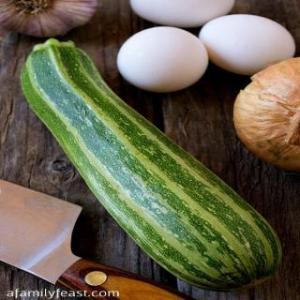egg: (118, 28, 210, 94), (202, 11, 298, 74), (126, 1, 242, 28)
garlic: (0, 0, 102, 36)
onion: (236, 55, 300, 173)
zucchini: (18, 35, 288, 296)
